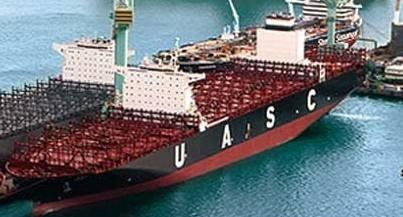Cargoship: (17, 1, 375, 199)
